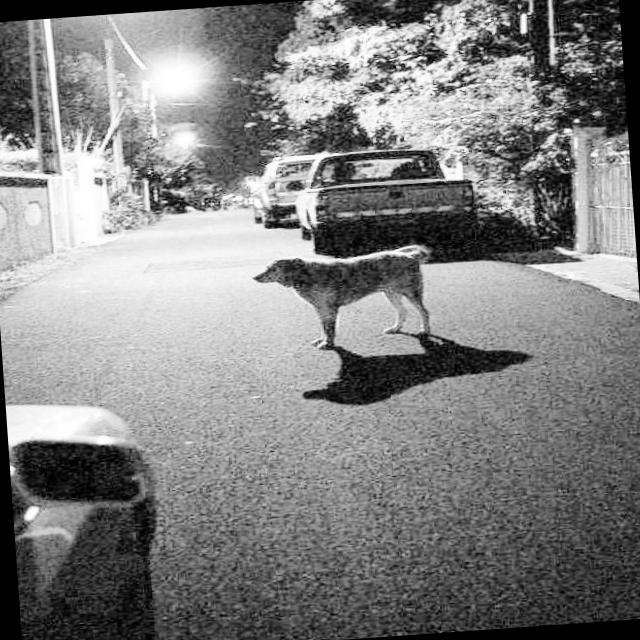Dog: (217, 216, 542, 380)
